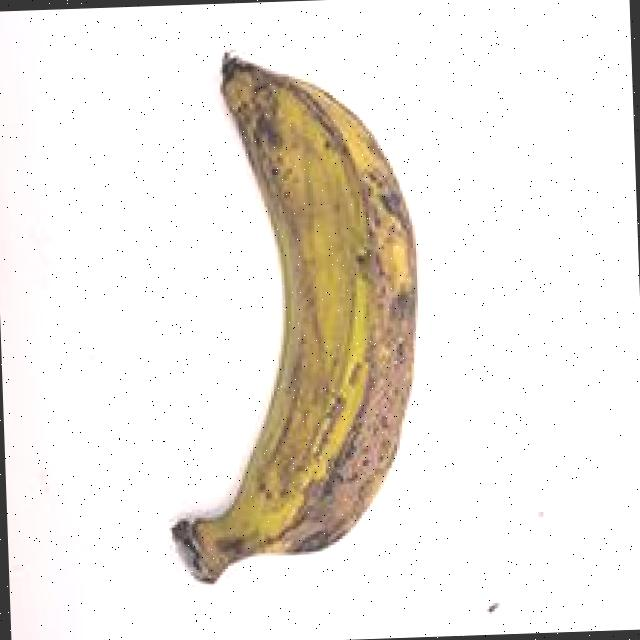Overripe: (111, 37, 448, 591)
